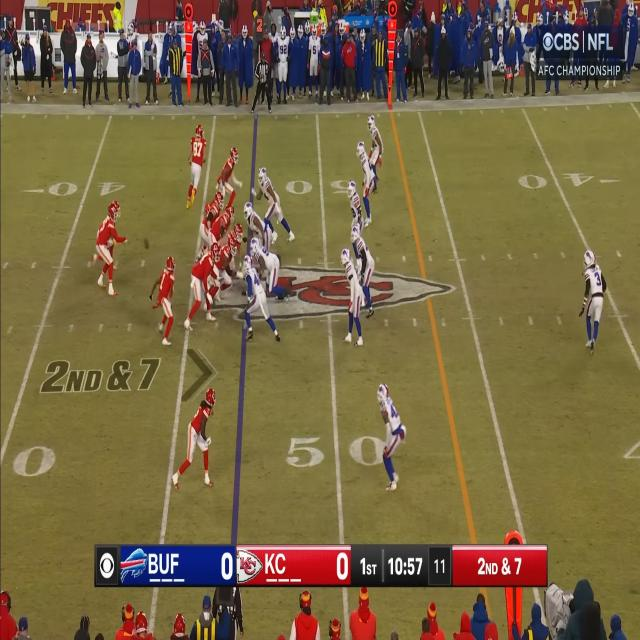Ball: (144, 236, 150, 249)
